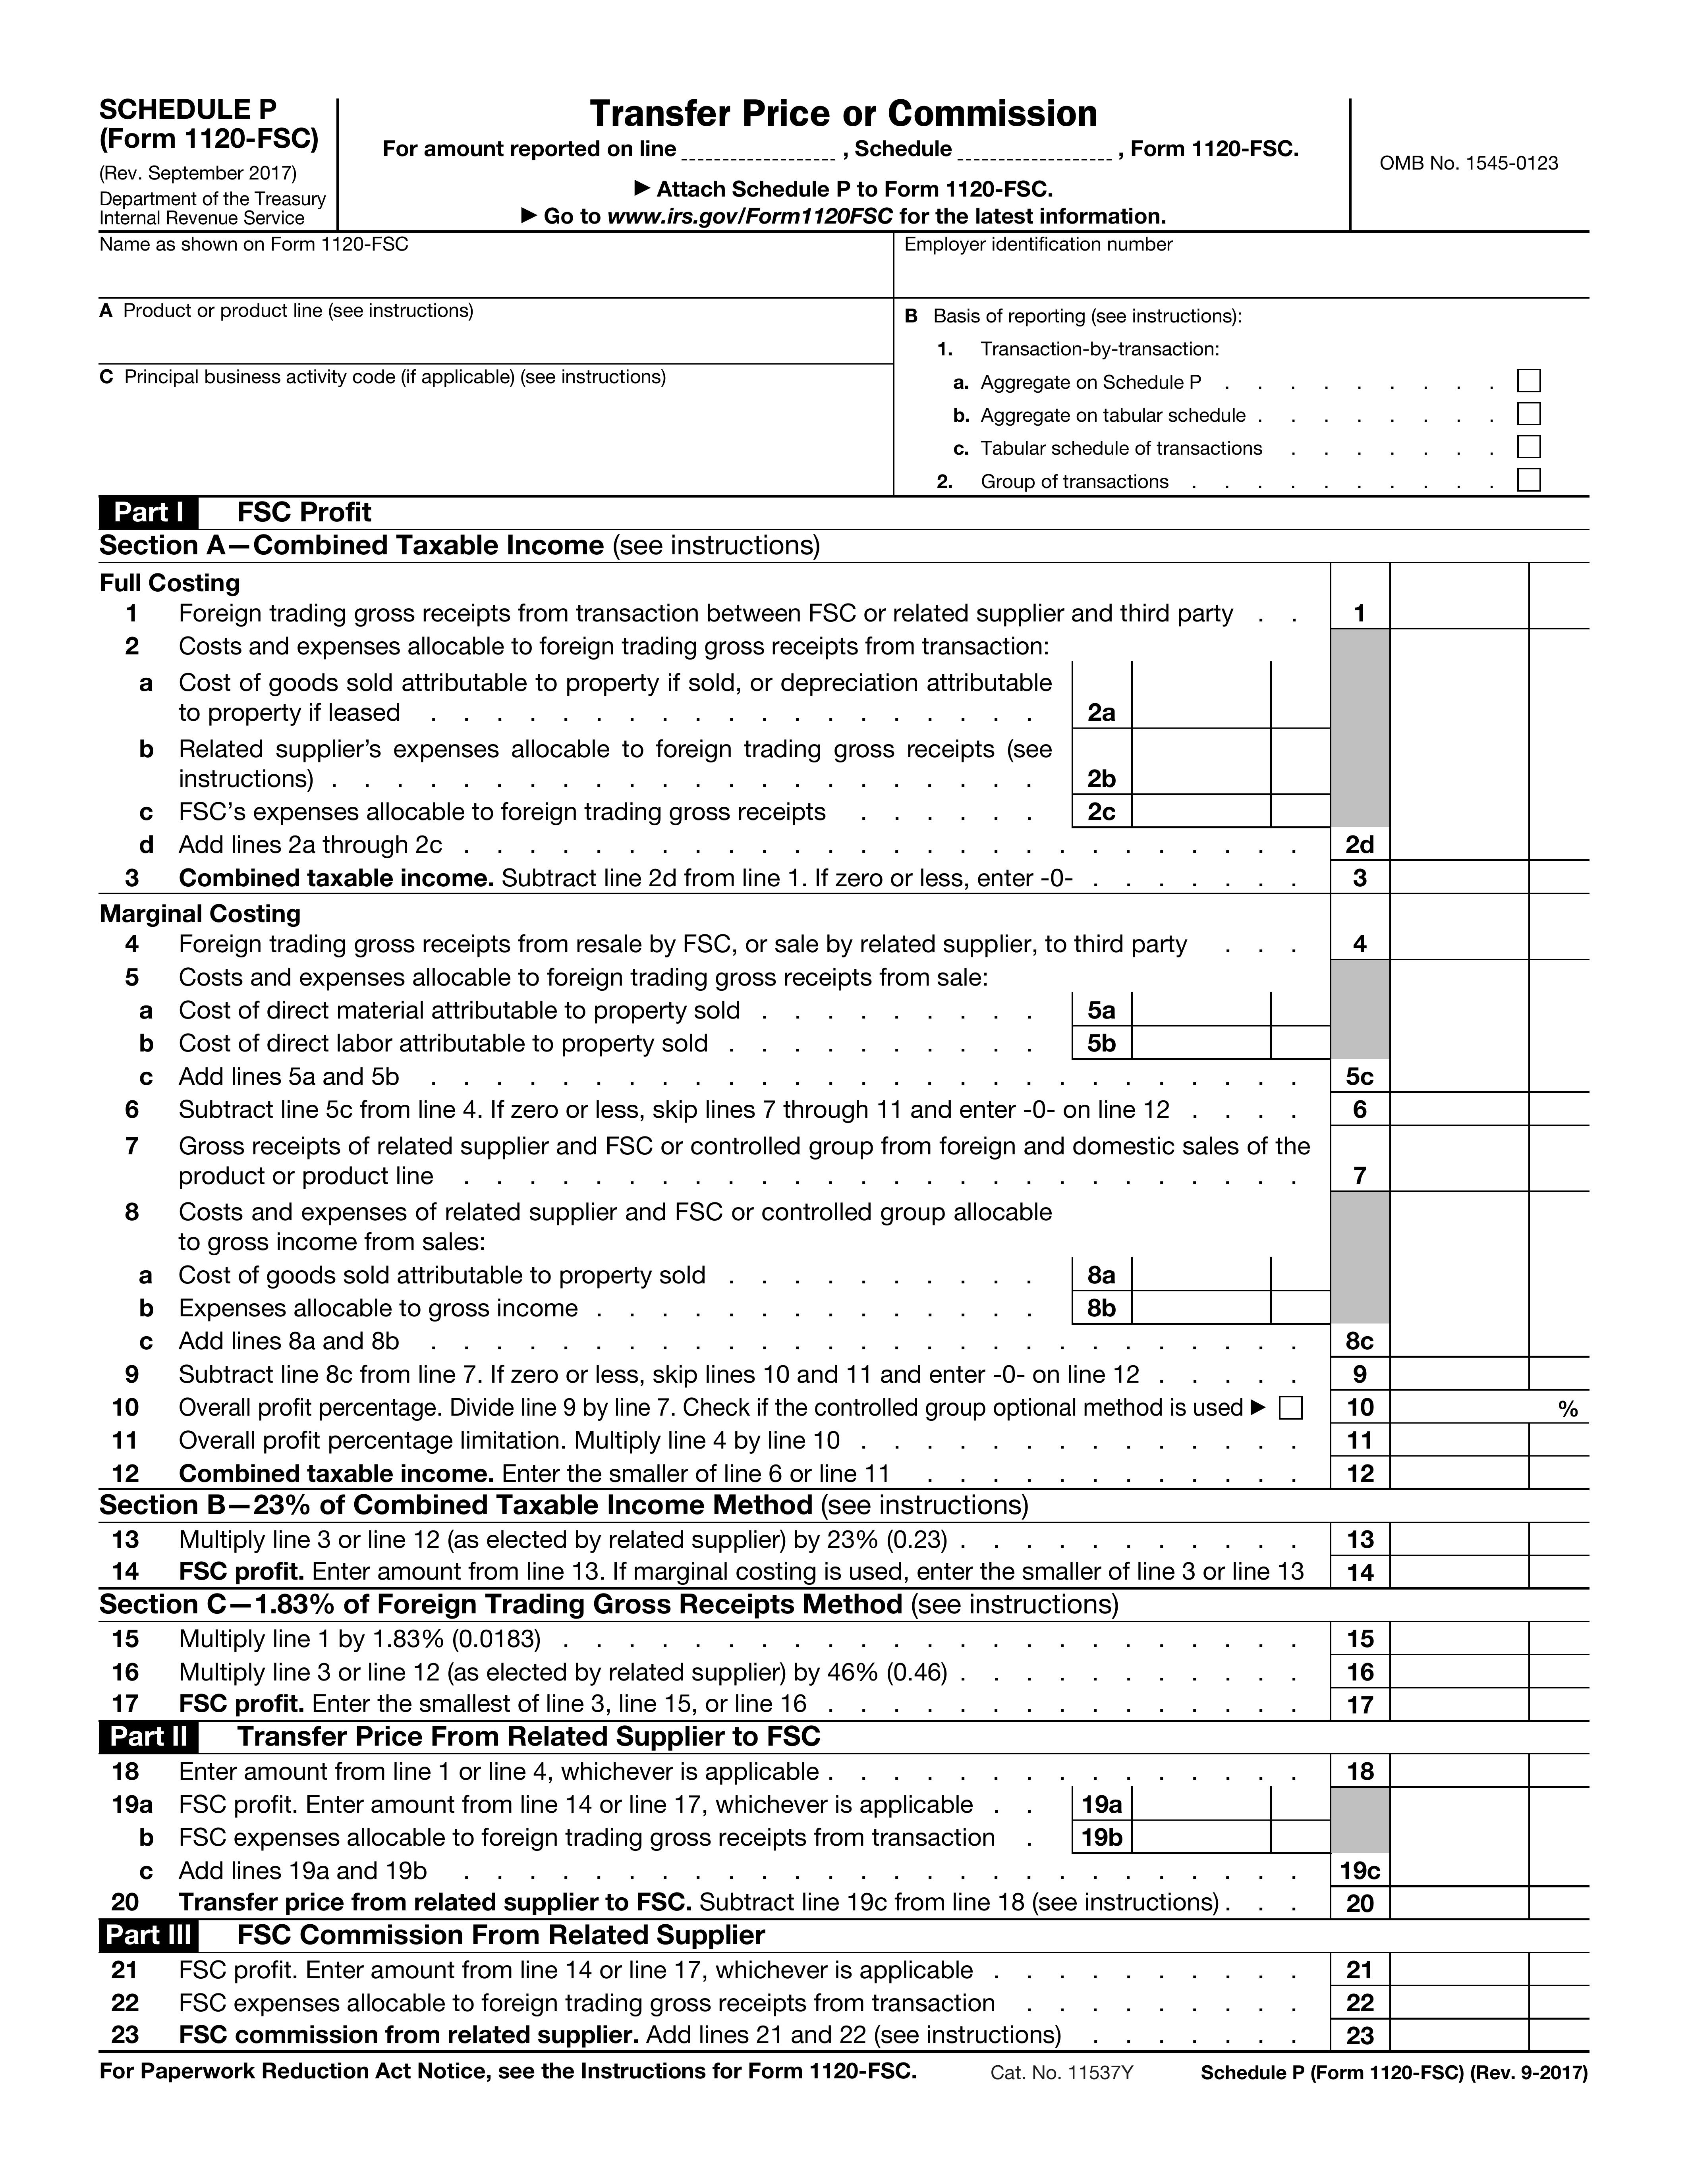form: (78, 76, 1619, 502)
table: (98, 495, 1654, 2056)
